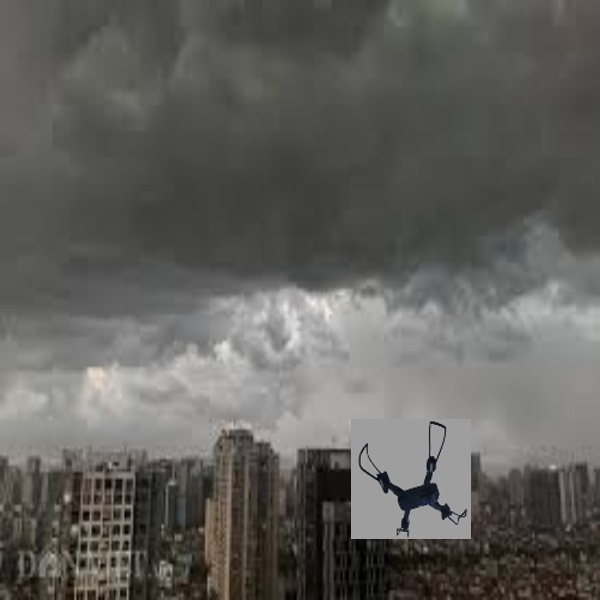drone: (353, 412, 475, 538)
